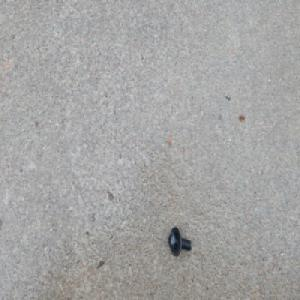BoltWasher: (167, 226, 191, 257)
